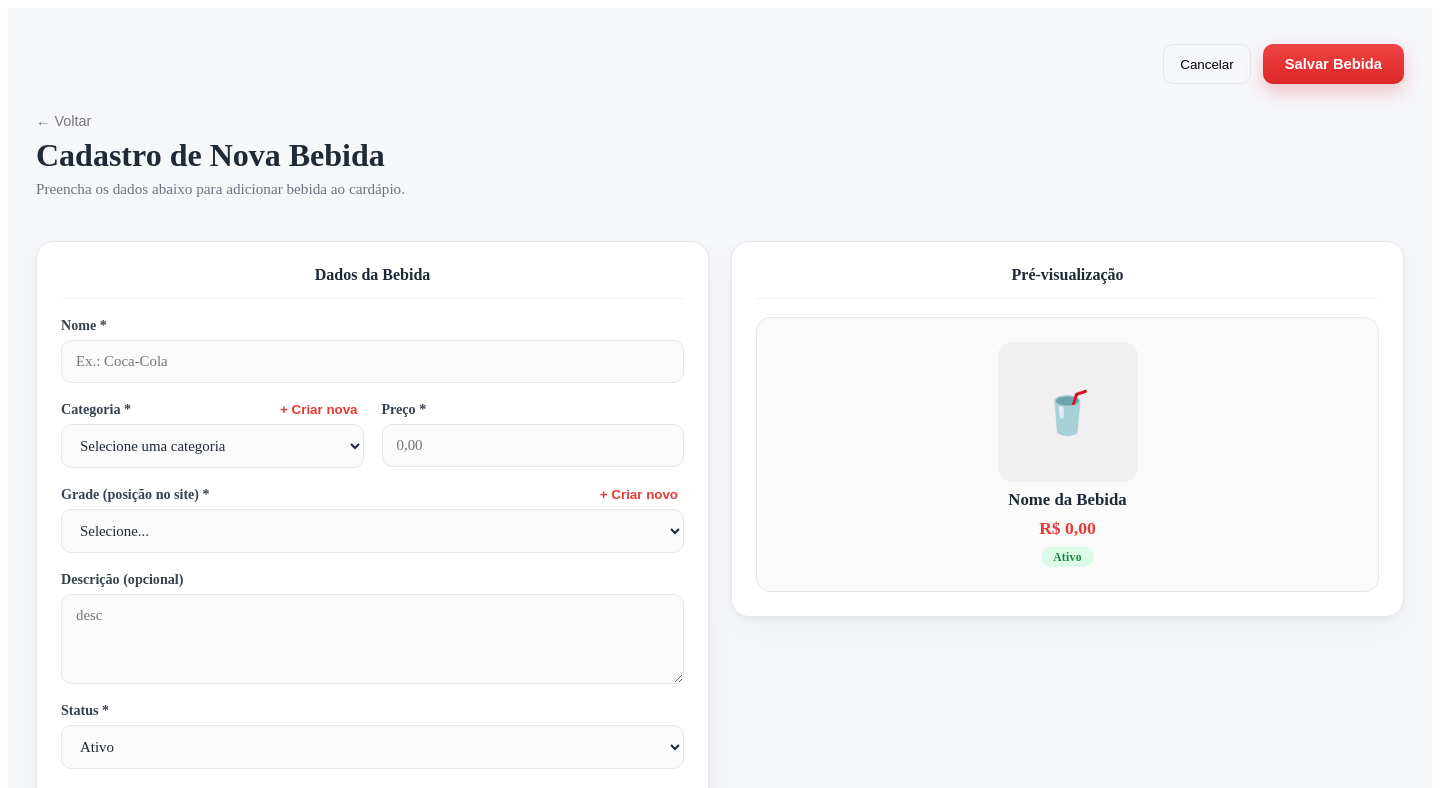
Test: ModalBebida - criação › salvar sem preencher nada mostra os 3 erros de validação
This screenshot has width=1440, height=788.
Step 1. Click the button "Salvar Bebida" → (1333, 64), box [1263,44,1404,84]
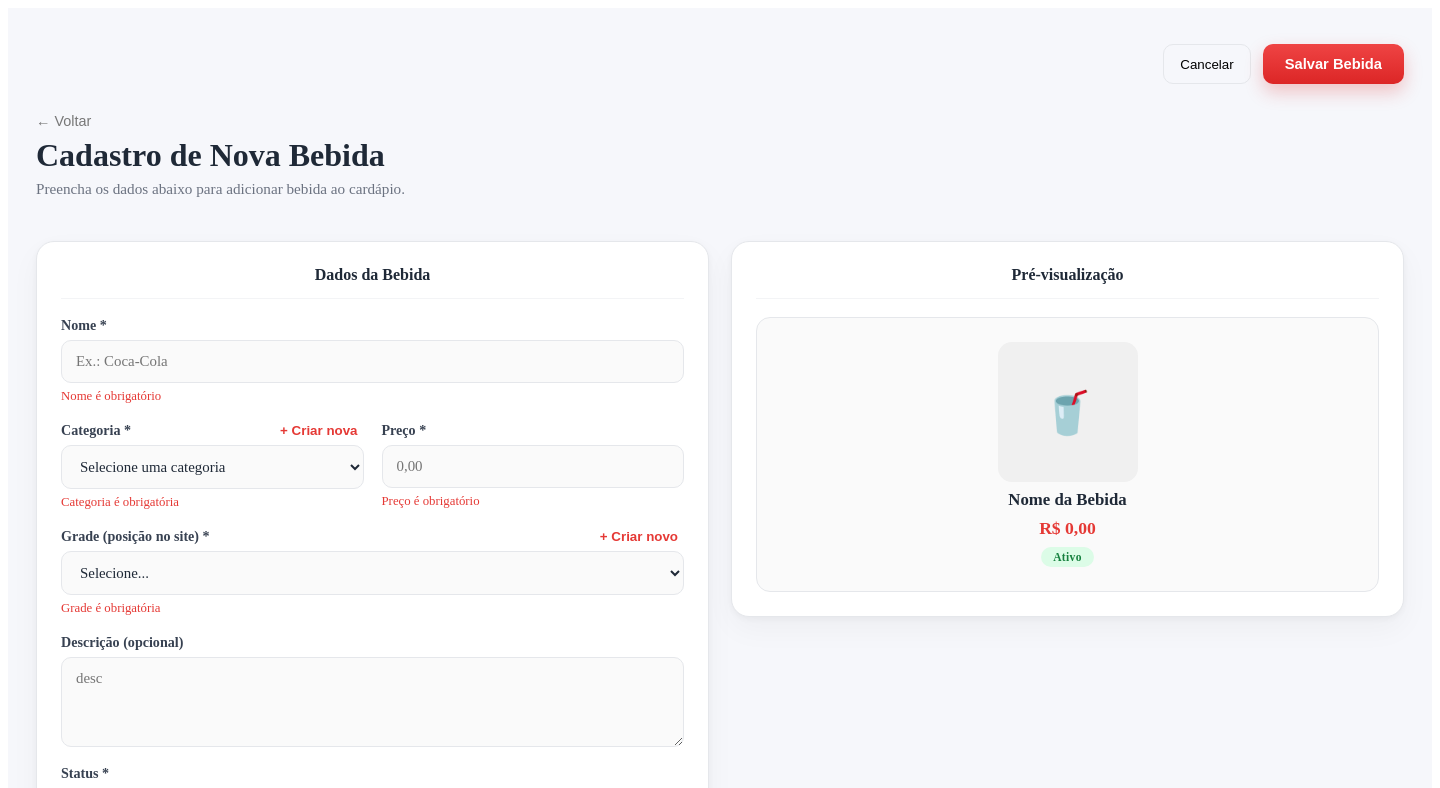
Now the text "Nome é obrigatório" is shown, box [61,389,161,403]
Now the text "Categoria é obrigatória" is shown, box [61,495,179,509]
Now the text "Grade é obrigatória" is shown, box [61,601,160,615]
